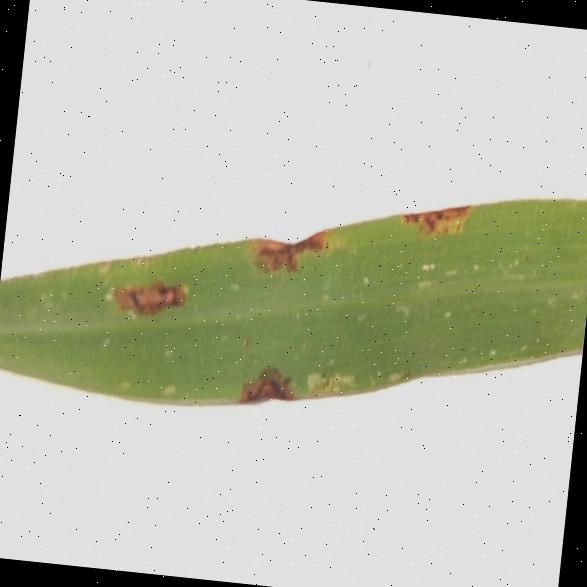Brown_Spot: (240, 189, 345, 280), (394, 166, 489, 255), (107, 248, 202, 332), (240, 343, 303, 425)
